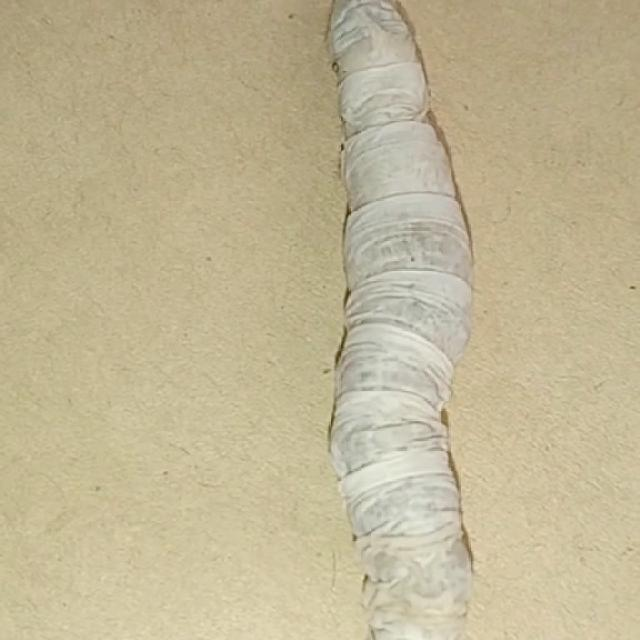Grasserie: (279, 0, 565, 640)
